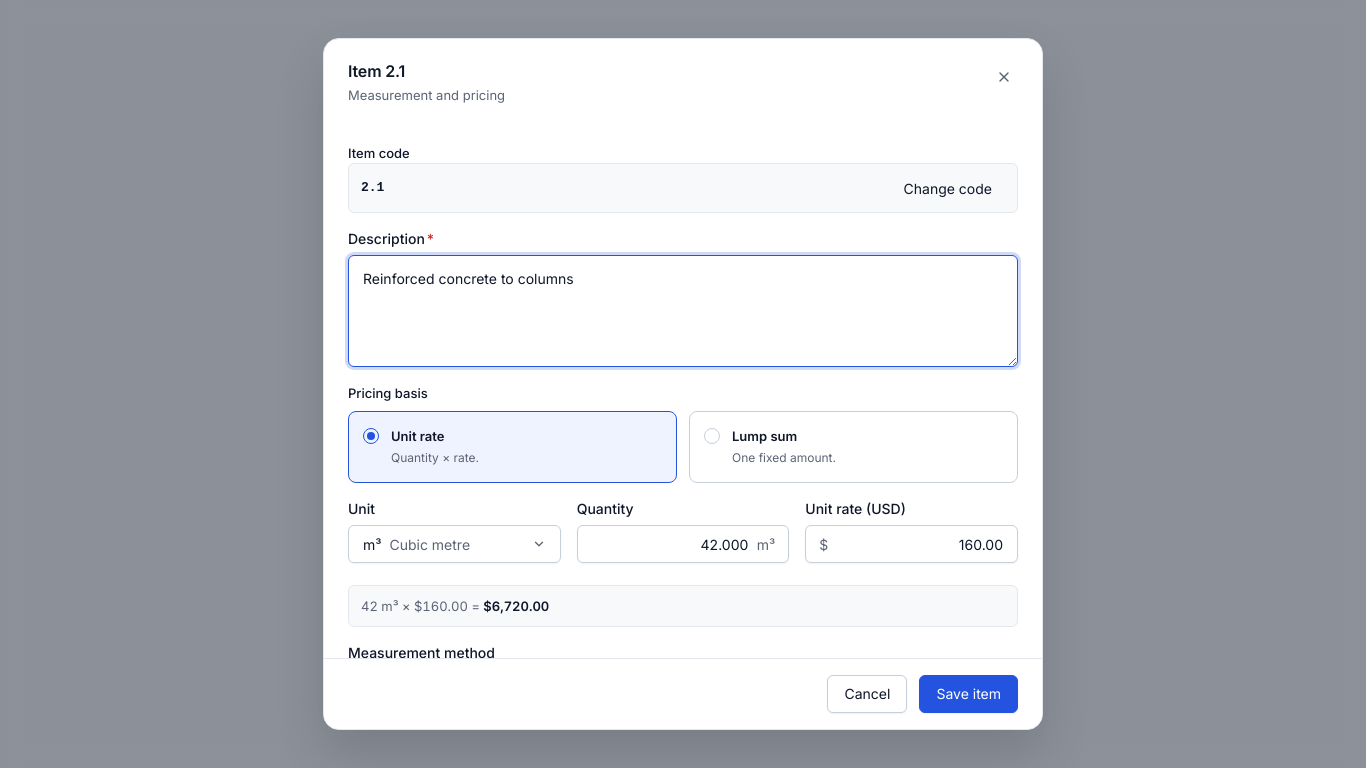
Test: BoqItemDialog — pricing basis › switches to a single lump-sum amount seeded from what the line totals to, and back
This screenshot has width=1366, height=768.
Click the radio button labelled "Lump sum" at (765,436), box [689,411,1018,483]
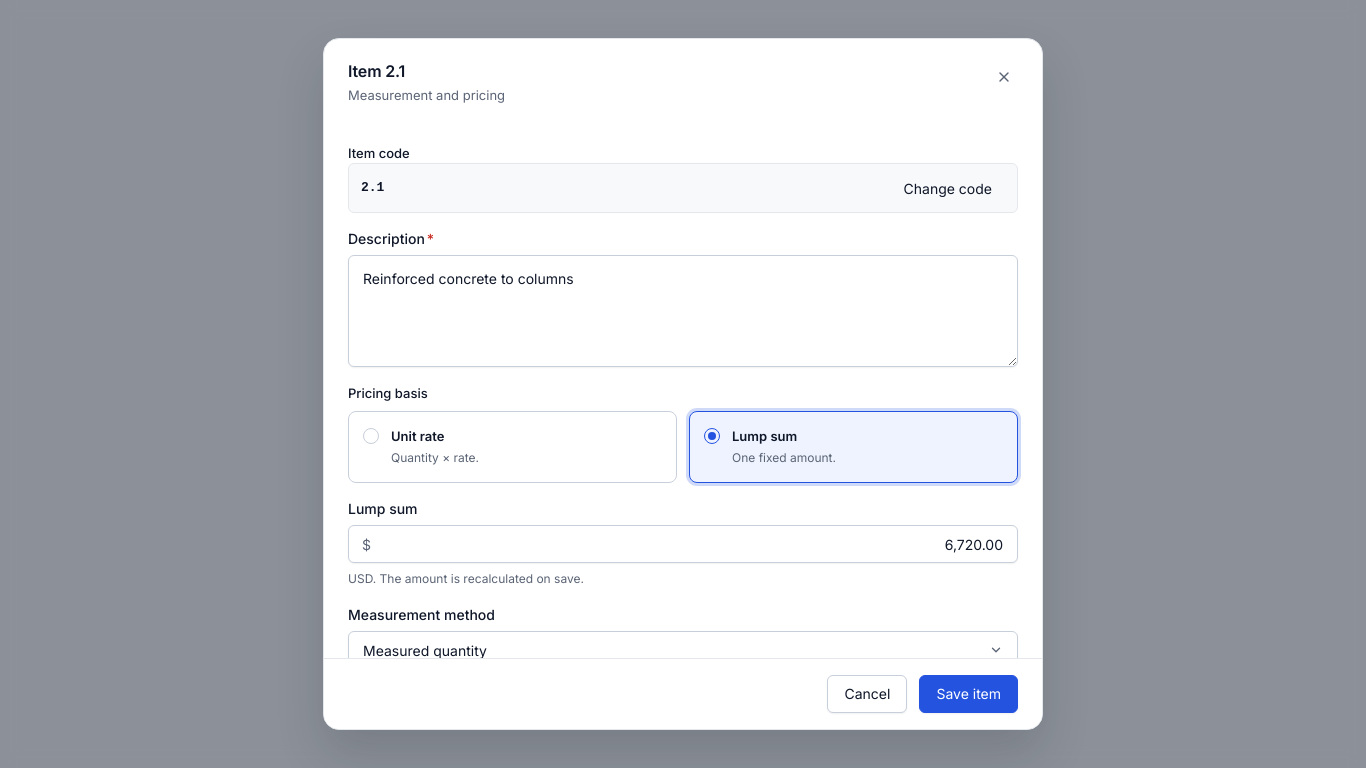
Now the field labelled "Lump sum" holds "6,720.00", box [348,525,1018,563]
Now the text "USD. The amount is recalculated on save." is shown, box [348,569,584,589]
Note: Back to unit rate: the measured quantity and rate were kept.
Click the radio button labelled "Unit rate" at (418,436), box [348,411,677,483]
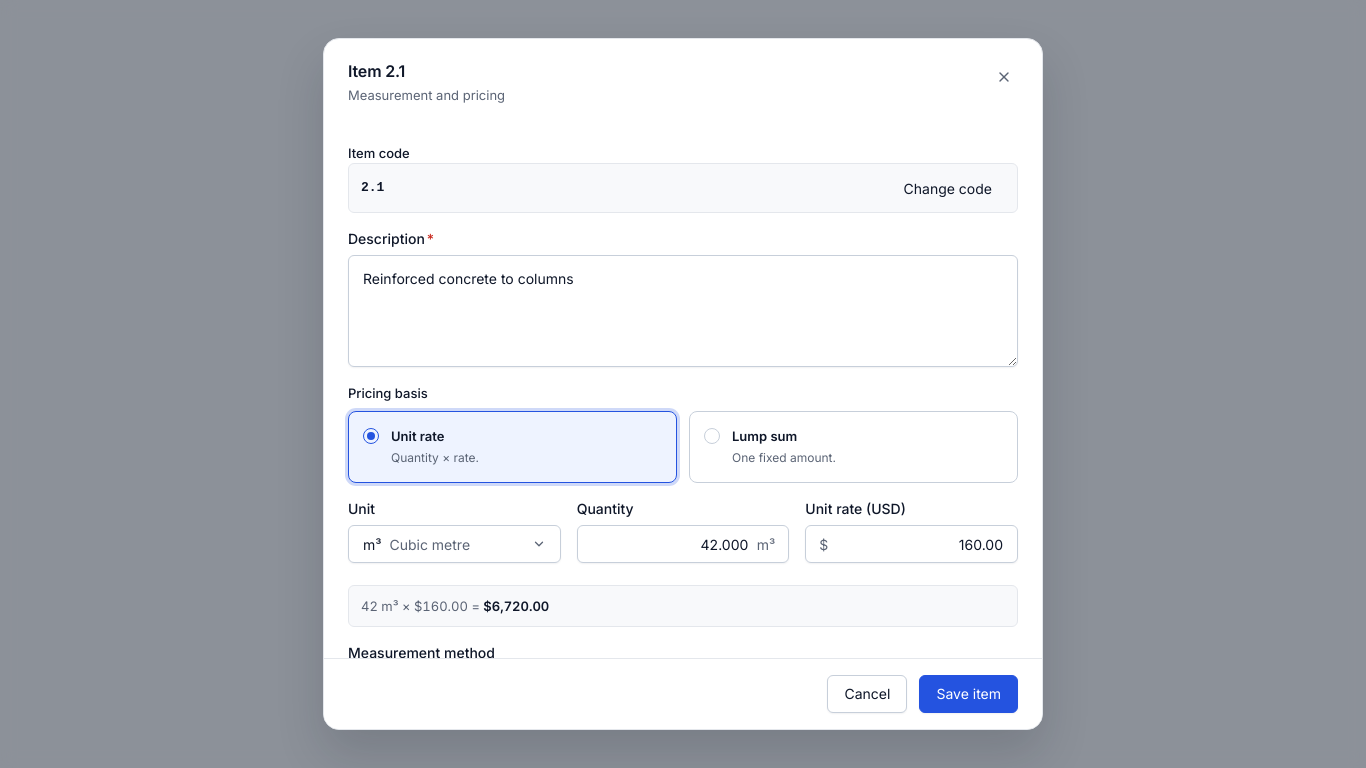
Now the field labelled "Quantity" holds "42.000", box [577,525,789,563]
Now the field labelled "Unit rate (USD)" holds "160.00", box [805,525,1018,563]
